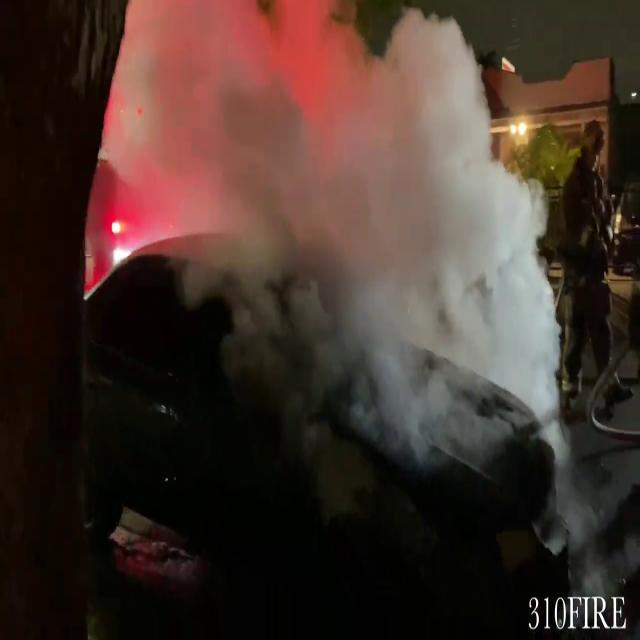Smoke: (185, 0, 572, 522)
